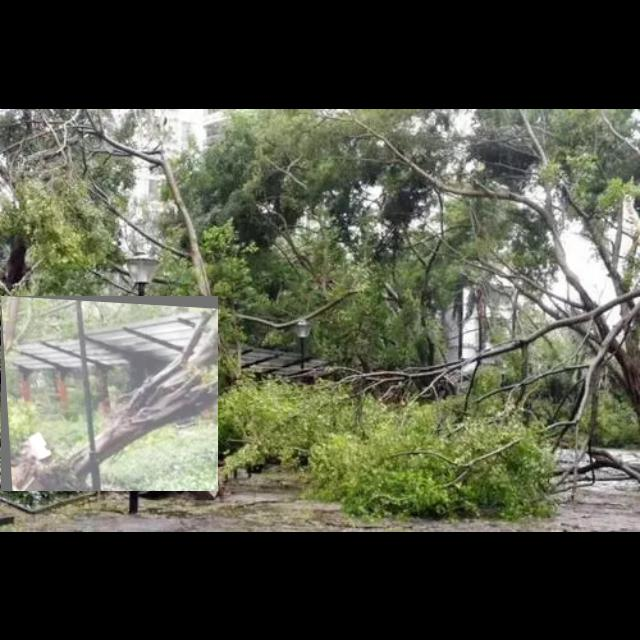Fallen Tree: (1, 296, 219, 492)
